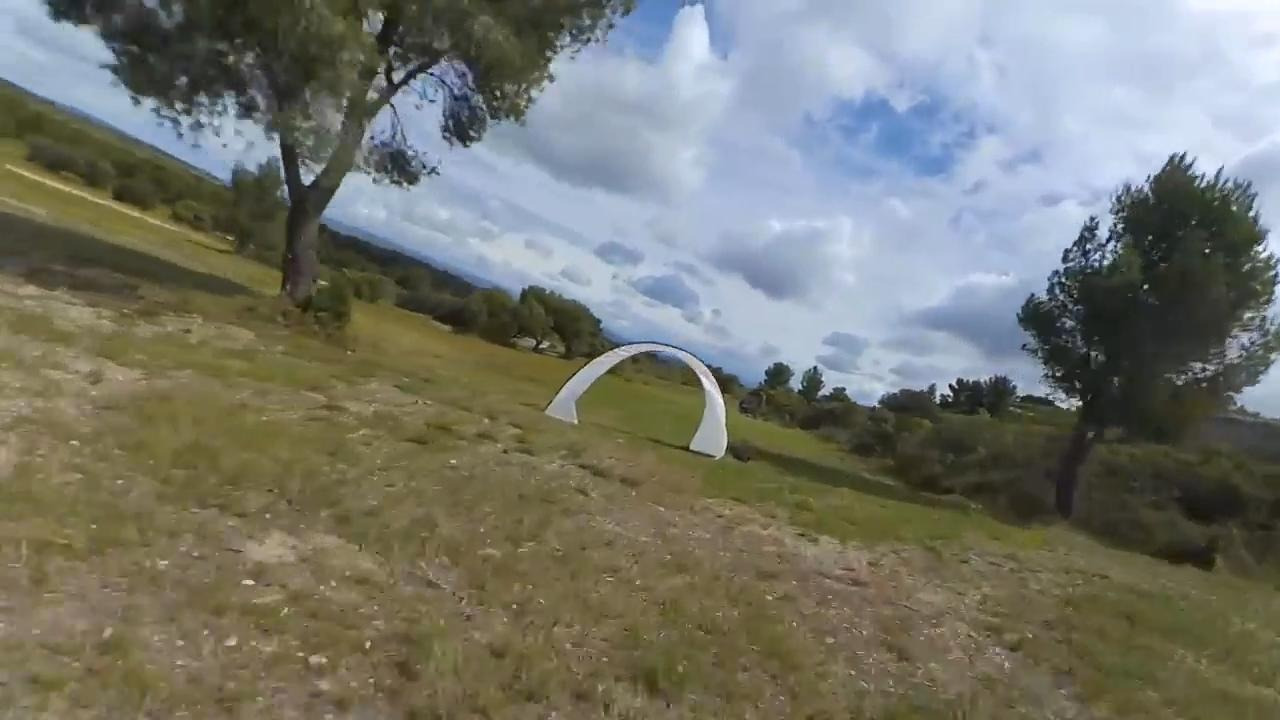gate: (547, 340, 729, 464)
